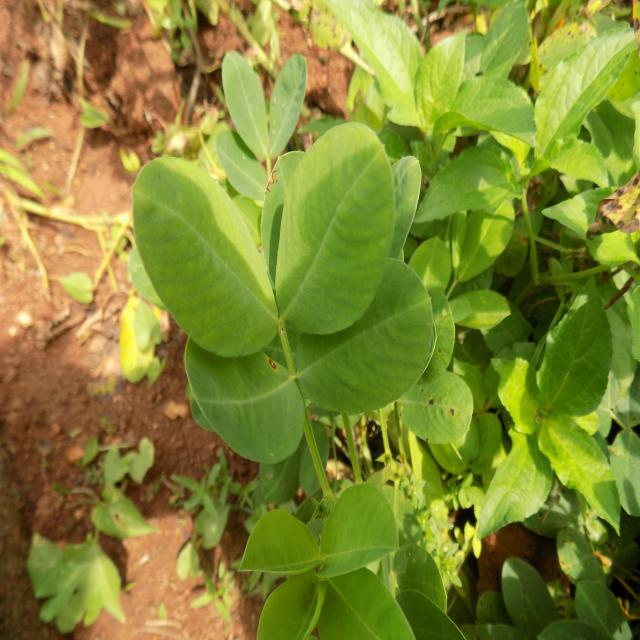Ground nut_healthy: (134, 156, 278, 359), (278, 123, 394, 347), (290, 256, 442, 419), (180, 330, 306, 467), (312, 482, 401, 580), (235, 502, 315, 589), (222, 44, 268, 154), (269, 50, 306, 160)
